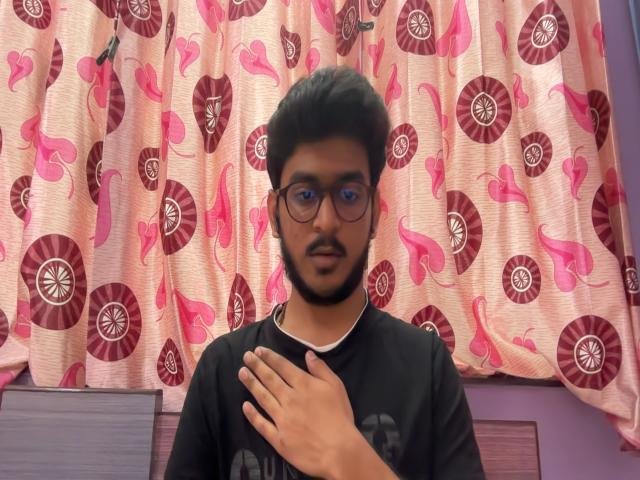Please: (235, 338, 366, 480)
